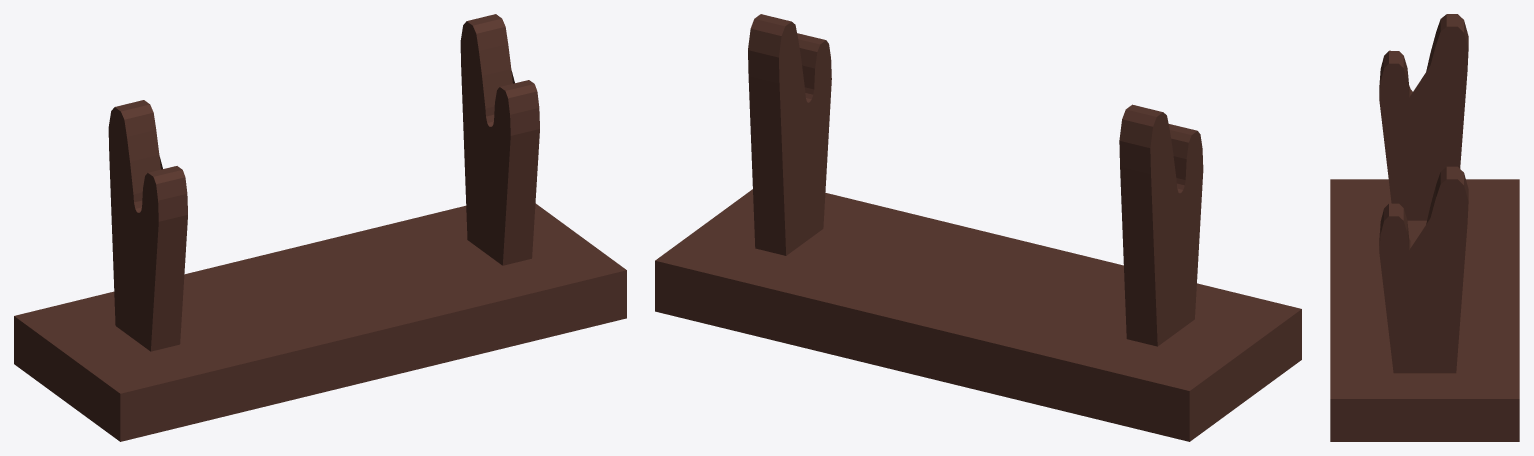
File: tatakan.fbx
The picture shows the model from 3 angles, left to right: view 1: azimuth 30°, elevation 25°; view 2: azimuth 150°, elevation 25°; view 3: azimuth 270°, elevation 25°; orthographic projection. The views are drawn at different scales.
Parts seen in each view (by area): view 1: Tatakan; view 2: Tatakan; view 3: Tatakan.
Boxes of the visible parts, x1,y1,x2,y2 form: Tatakan: (14,14,626,441); Tatakan: (655,14,1301,441); Tatakan: (1330,14,1519,441).
Bounding box in the file's own units: 161 × 81.05 × 58.64.
